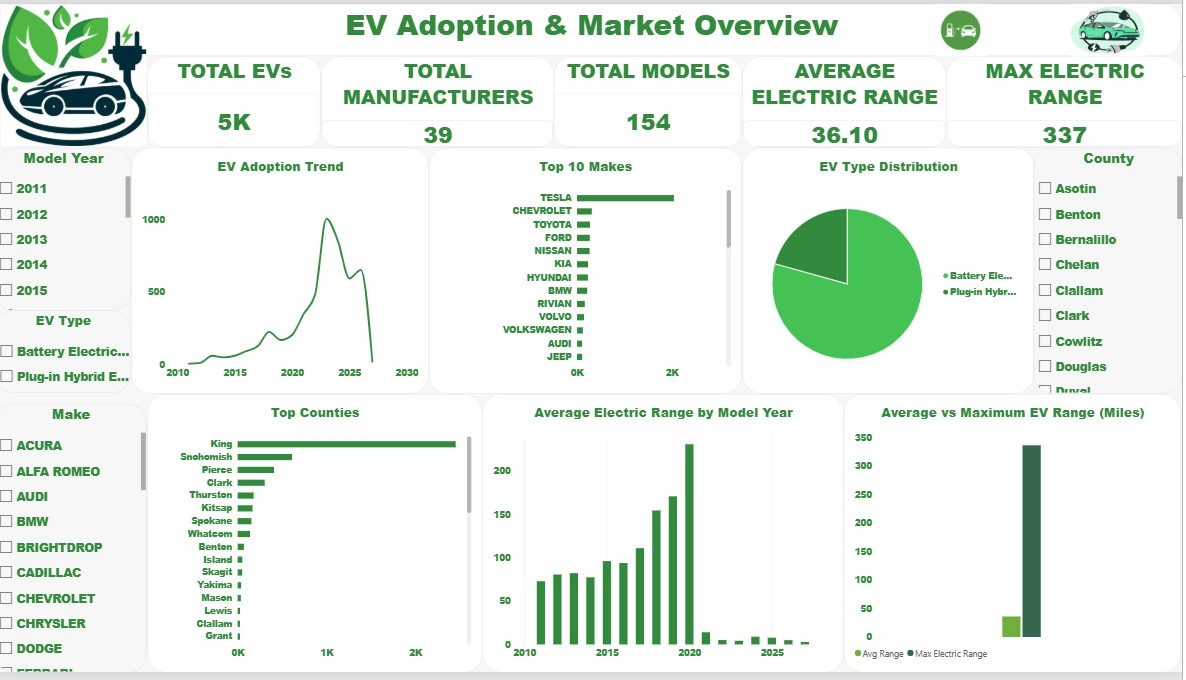

The dashboard page shown, as its layout file describes it:
{"tool":"powerbi","page":{"name":"EV Adoption & Market Overview","canvas":[1920,1080],"ordinal":0},"visuals":[{"type":"textbox","title":"EV Adoption & Market Overview","box":[10.3,0,1908.1,84.4],"z":0},{"type":"cardVisual","title":"TOTAL EVs","fields":{"Data":["EV_Cleaned_Dataset.Total EVs"]},"box":[247,84.4,279.9,148.2],"z":1000},{"type":"cardVisual","title":"TOTAL MANUFACTURERS","fields":{"Data":["EV_Cleaned_Dataset.Total Manufacturers"]},"box":[526.9,84.4,376.7,148.2],"z":2000},{"type":"cardVisual","title":"TOTAL MODELS","fields":{"Data":["EV_Cleaned_Dataset.Total Models"]},"box":[903.6,84.4,304.6,148.2],"z":3000},{"type":"cardVisual","title":"AVERAGE ELECTRIC RANGE","fields":{"Data":["EV_Cleaned_Dataset.Avg Range"]},"box":[1208.2,84.4,329.3,148.2],"z":4000},{"type":"cardVisual","title":"MAX ELECTRIC RANGE","fields":{"Data":["EV_Cleaned_Dataset.Max Electric Range"]},"box":[1537.6,84.4,382.8,148.2],"z":5000},{"type":"image","box":[10.3,0,234.6,232.6],"z":6000},{"type":"image","box":[1443.3,0,236.5,84.9],"z":7000},{"type":"lineChart","title":"EV Adoption Trend","fields":{"Category":["EV_Cleaned_Dataset.Model Year"],"Y":["EV_Cleaned_Dataset.Total EVs"]},"box":[220.2,232.6,481.6,397.3],"z":8000},{"type":"clusteredBarChart","title":"Top 10 Makes","fields":{"Category":["EV_Cleaned_Dataset.Make"],"Y":["EV_Cleaned_Dataset.Total EVs"]},"box":[701.9,232.6,506.3,397.3],"z":9000},{"type":"pieChart","title":"EV Type Distribution","fields":{"Category":["EV_Cleaned_Dataset.EV_Type"],"Y":["EV_Cleaned_Dataset.Total EVs"]},"box":[1208.2,232.6,471.4,397.3],"z":10000},{"type":"clusteredBarChart","title":"Top Counties","fields":{"Category":["EV_Cleaned_Dataset.County"],"Y":["EV_Cleaned_Dataset.Total EVs"]},"box":[247,629.8,541.3,450.8],"z":11000},{"type":"slicer","title":"Model Year","fields":{"Values":["EV_Cleaned_Dataset.City"]},"box":[0,232.6,220.2,263.5],"z":12000},{"type":"slicer","title":"Make","fields":{"Values":["EV_Cleaned_Dataset.Make"]},"box":[0,646.3,244.9,434.3],"z":13000},{"type":"slicer","title":"EV Type","fields":{"Values":["EV_Cleaned_Dataset.EV_Type"]},"box":[0,496.1,220.2,133.8],"z":14000},{"type":"slicer","title":"County","fields":{"Values":["EV_Cleaned_Dataset.County"]},"box":[1679.6,232.6,240.8,397.3],"z":15000},{"type":"clusteredColumnChart","title":"Average Electric Range by Model Year","fields":{"Category":["EV_Cleaned_Dataset.Model Year"],"Y":["EV_Cleaned_Dataset.Avg Range"]},"box":[788.4,630.7,584.2,450.8],"z":16000},{"type":"clusteredColumnChart","title":"Average vs Maximum EV Range (Miles)","fields":{"Y":["EV_Cleaned_Dataset.Avg Range","EV_Cleaned_Dataset.Max Electric Range"]},"box":[1372.6,630.7,545.8,450.8],"z":17000},{"type":"image","box":[1679.9,0,240.6,84.9],"z":18000}]}

Visuals, with their boxes in screenshot pixels (x1, y1, x2, y2), scaled from the page's 1920x1080 canvas onto the 1186x680 screenshot:
"EV Adoption & Market Overview" textbox: (x1=6, y1=0, x2=1185, y2=53)
"TOTAL EVs" cardVisual: (x1=153, y1=53, x2=325, y2=146)
"TOTAL MANUFACTURERS" cardVisual: (x1=325, y1=53, x2=558, y2=146)
"TOTAL MODELS" cardVisual: (x1=558, y1=53, x2=746, y2=146)
"AVERAGE ELECTRIC RANGE" cardVisual: (x1=746, y1=53, x2=950, y2=146)
"MAX ELECTRIC RANGE" cardVisual: (x1=950, y1=53, x2=1185, y2=146)
image: (x1=6, y1=0, x2=151, y2=146)
image: (x1=892, y1=0, x2=1038, y2=53)
"EV Adoption Trend" lineChart: (x1=136, y1=146, x2=434, y2=397)
"Top 10 Makes" clusteredBarChart: (x1=434, y1=146, x2=746, y2=397)
"EV Type Distribution" pieChart: (x1=746, y1=146, x2=1038, y2=397)
"Top Counties" clusteredBarChart: (x1=153, y1=397, x2=487, y2=679)
"Model Year" slicer: (x1=0, y1=146, x2=136, y2=312)
"Make" slicer: (x1=0, y1=407, x2=151, y2=679)
"EV Type" slicer: (x1=0, y1=312, x2=136, y2=397)
"County" slicer: (x1=1038, y1=146, x2=1185, y2=397)
"Average Electric Range by Model Year" clusteredColumnChart: (x1=487, y1=397, x2=848, y2=679)
"Average vs Maximum EV Range (Miles)" clusteredColumnChart: (x1=848, y1=397, x2=1185, y2=679)
image: (x1=1038, y1=0, x2=1185, y2=53)
